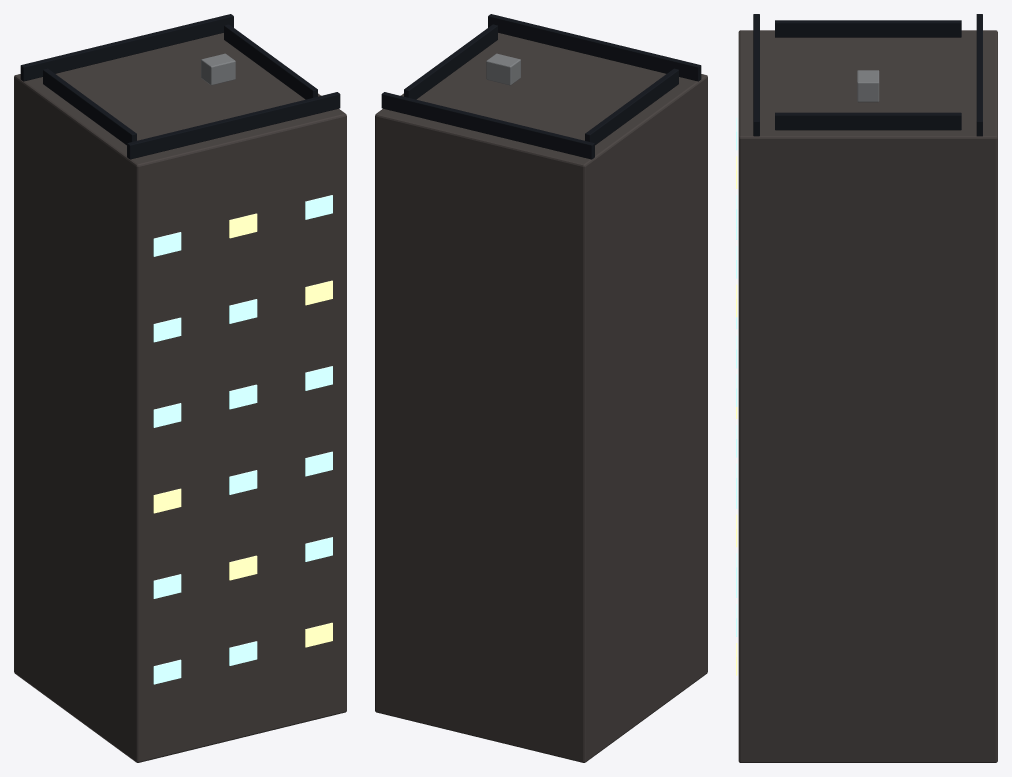
The model's file is Building_B.fbx.
The picture shows the model from 3 angles, left to right: view 1: azimuth 30°, elevation 25°; view 2: azimuth 150°, elevation 25°; view 3: azimuth 270°, elevation 25°; orthographic projection. The views are drawn at different scales.
Parts seen in each view (by area): view 1: Building_001; view 2: Building_001; view 3: Building_001.
Boxes of the visible parts, x1=… form: Building_001: x1=14, y1=14, x2=346, y2=762; Building_001: x1=375, y1=14, x2=707, y2=762; Building_001: x1=736, y1=14, x2=997, y2=762.
Size of the model in its own units: 6.34 by 17.95 by 6.53.
